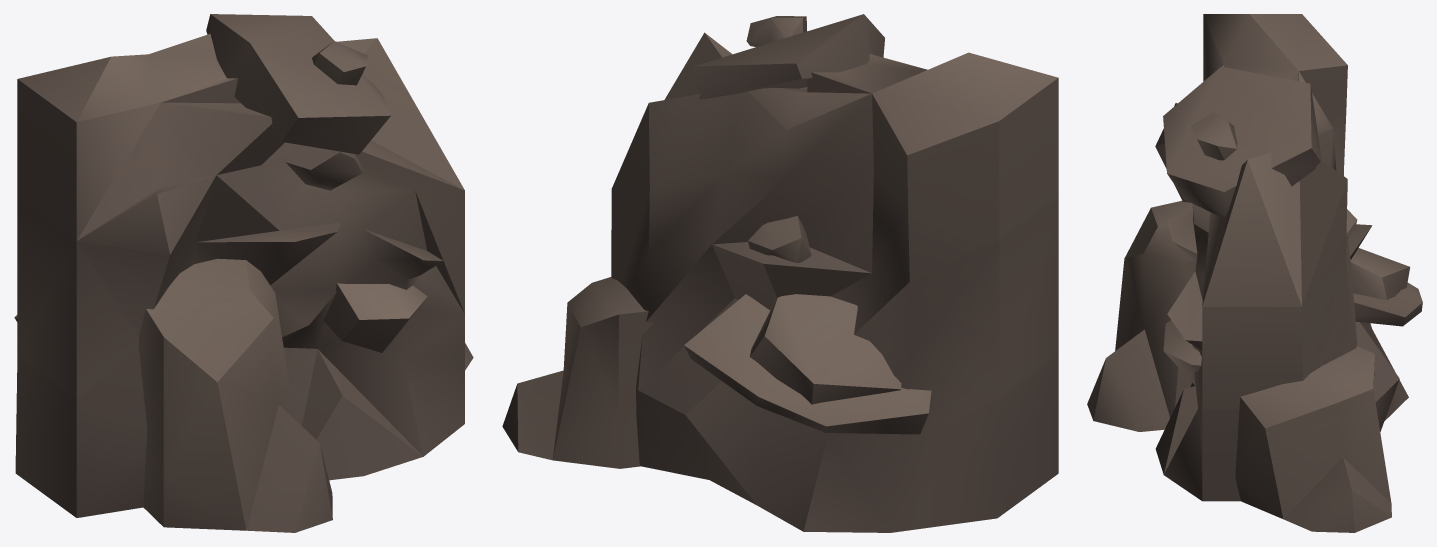
The model's file is dungeon-rubble-small.glb.
The picture shows the model from 3 angles, left to right: view 1: azimuth 30°, elevation 25°; view 2: azimuth 150°, elevation 25°; view 3: azimuth 270°, elevation 25°; orthographic projection. The views are drawn at different scales.
Parts seen in each view (by area): view 1: dungeon-rubble-small; view 2: dungeon-rubble-small; view 3: dungeon-rubble-small.
Part boxes in pixels (bbox=[...]): dungeon-rubble-small: bbox=[14, 14, 473, 532]; dungeon-rubble-small: bbox=[502, 14, 1058, 532]; dungeon-rubble-small: bbox=[1087, 14, 1422, 532].
Bounding box in the file's own units: 3 × 2.63 × 2.25.
1 material, 1 textured.
